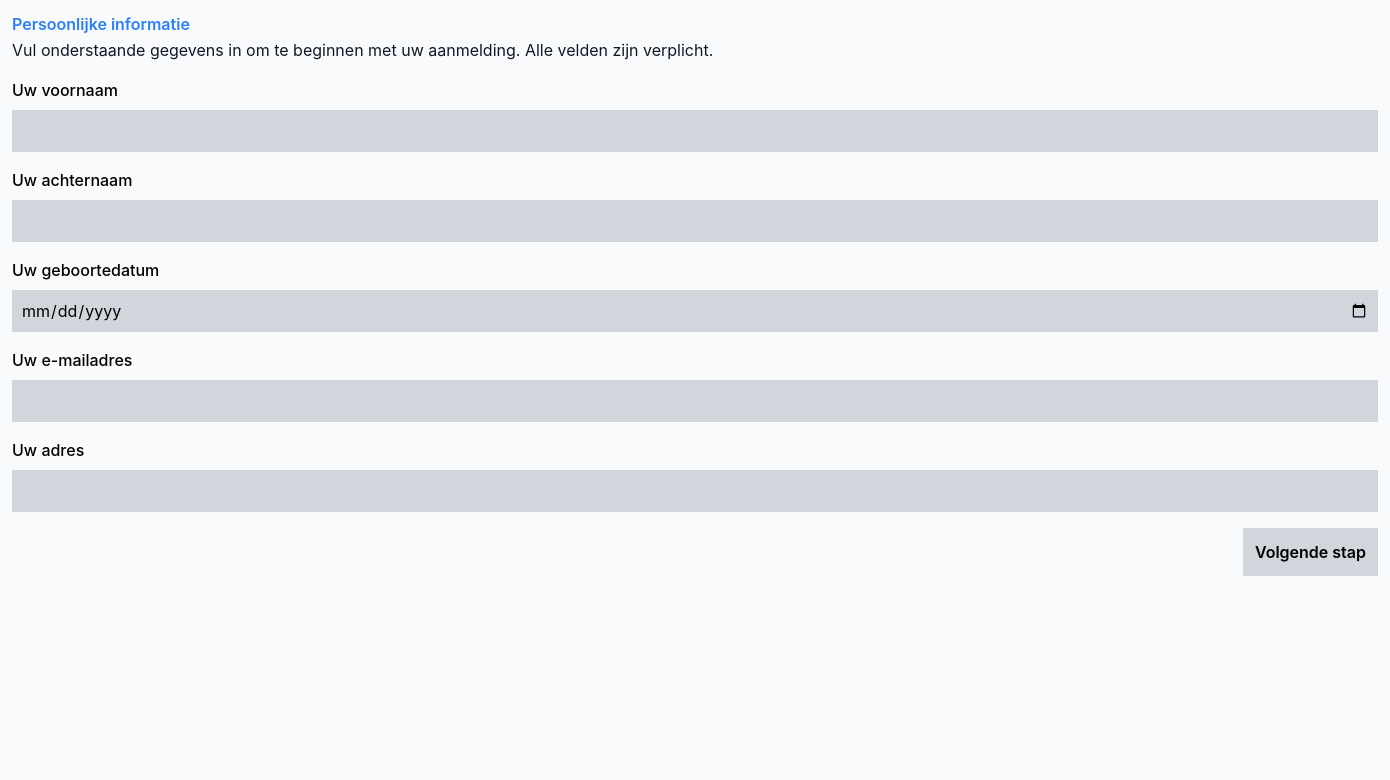
Test: PersonalInfo form integration › shows the exact minimum-age error and summary banner
Type "2010-06-15" into the date field labelled "Uw geboortedatum" at [695, 311], box [12,290,1378,332]
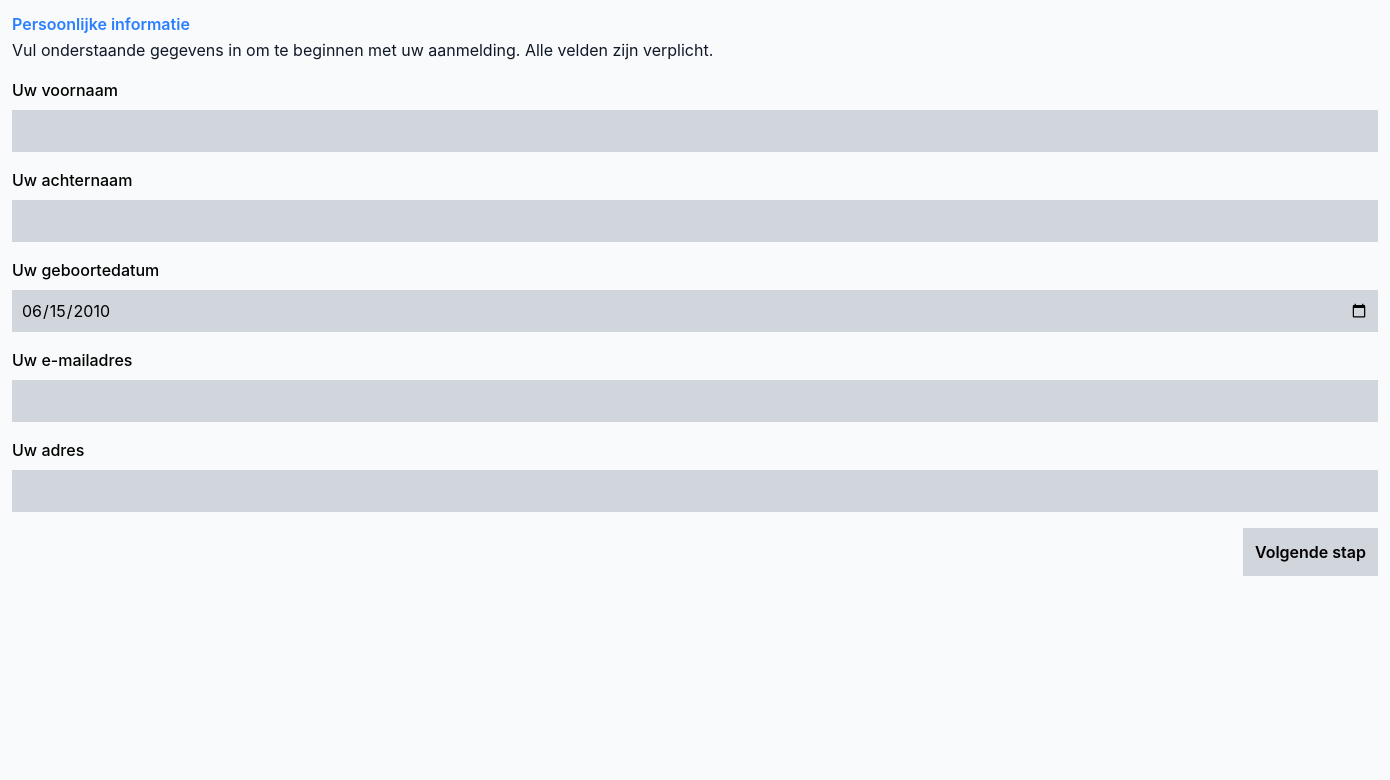
Leave the date field labelled "Uw geboortedatum", box [12,290,1378,332]
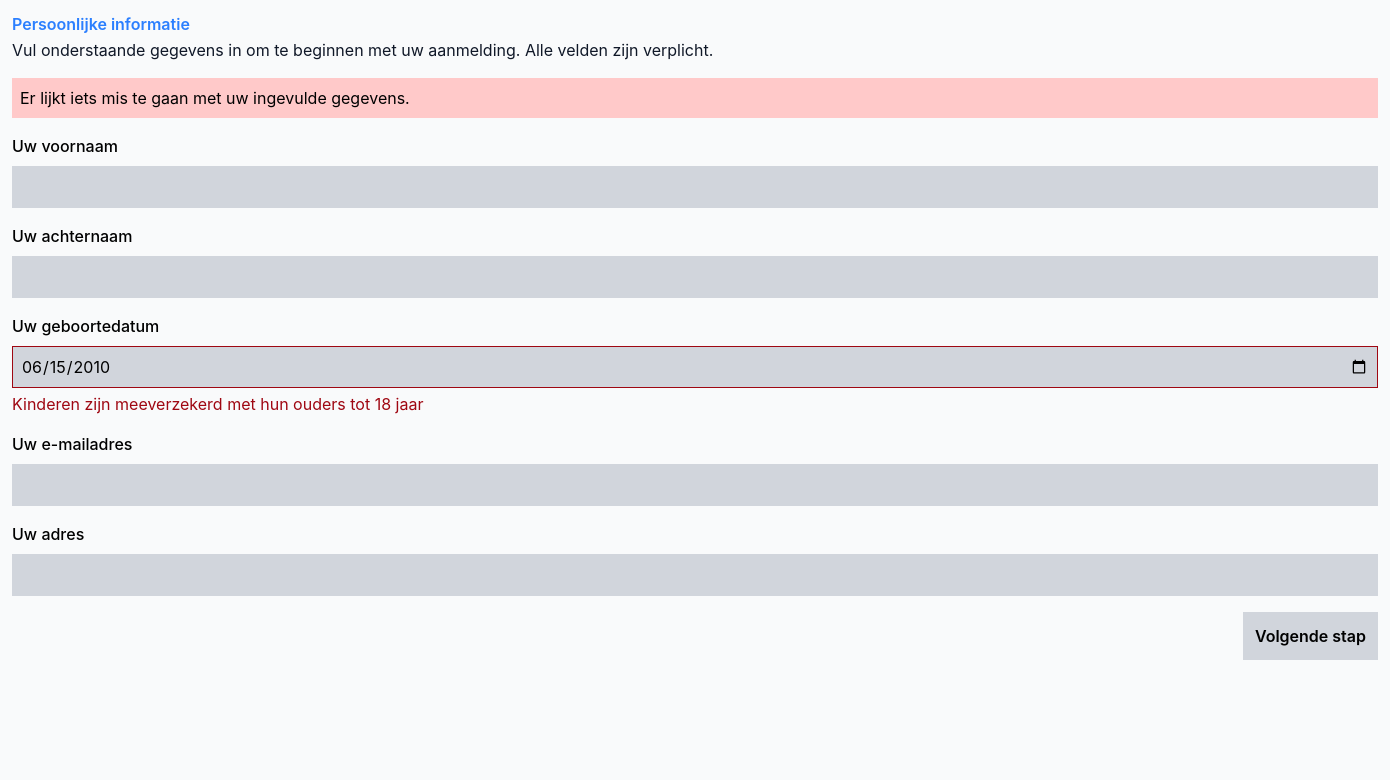
Expected: the number of messages is 2, [12,78,1378,118]; [12,394,423,414]
Expected: the message "Kinderen zijn meeverzekerd met hun ouders tot 18 jaar" is shown, [12,394,423,414]
